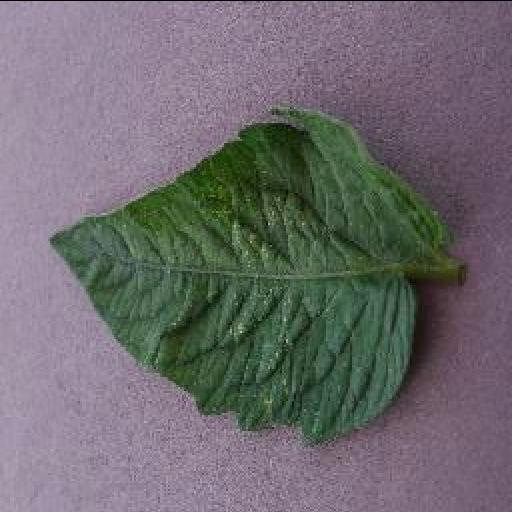disease_tomato: (46, 105, 448, 444)
